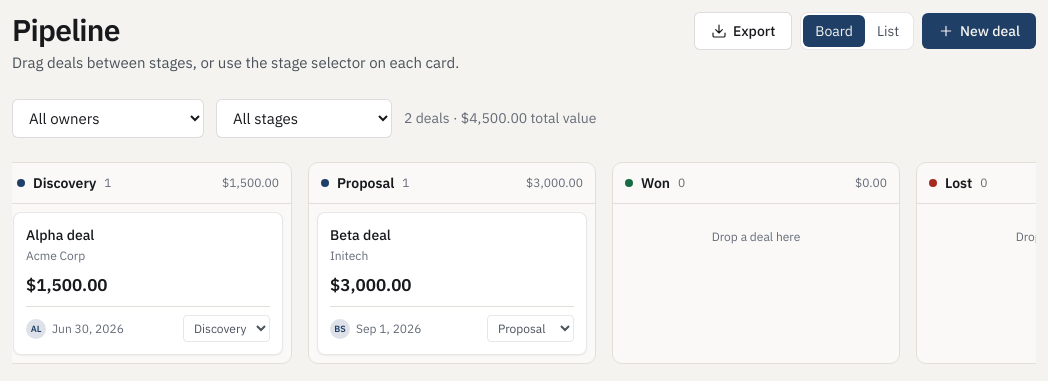
Test: PipelinePage › filters › filters by owner and hides the owner filter from reps
This screenshot has width=1048, height=381.
Expected: the text "Alpha deal" is shown, [26,226,94,244]
Select "Ben Smith" in the dropdown named "Filter by owner": (108, 118) [12,98,204,138]
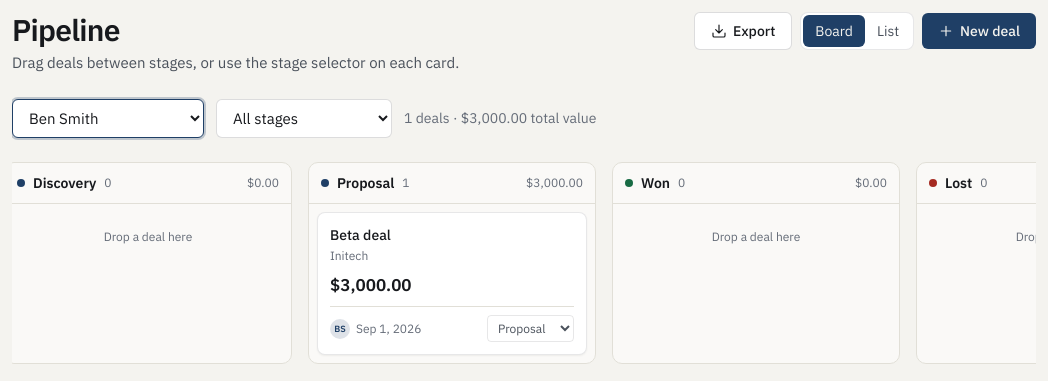
Expected: the text "Beta deal" is shown, [330,226,391,244]
Result: the link "Alpha deal" is gone
